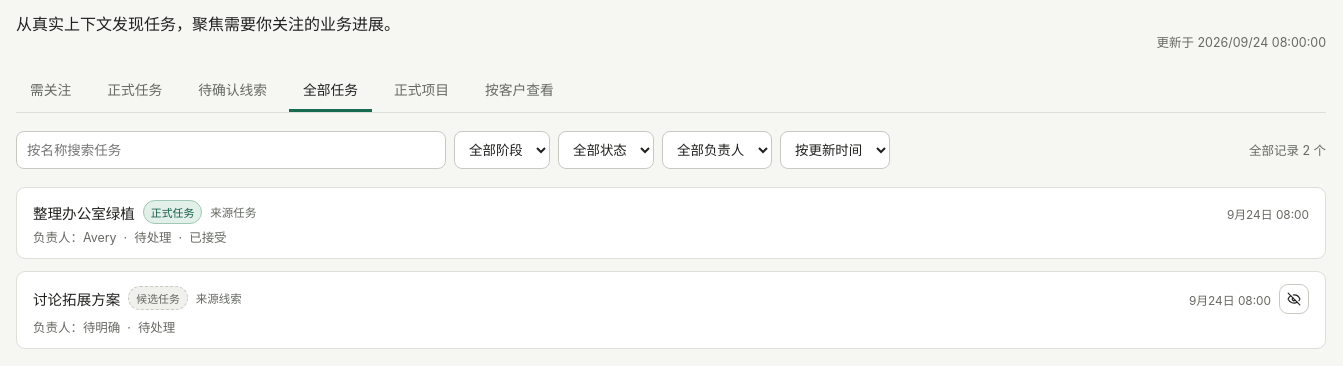
Test: TasksPage › lets Derek ignore a candidate and take it back, and offers no button on a formal Task
Expected: the link "讨论拓展方案" is shown, left=33, top=288, right=120, bottom=308
Click the button named "忽略 讨论拓展方案": (1294, 299) left=1279, top=284, right=1309, bottom=314
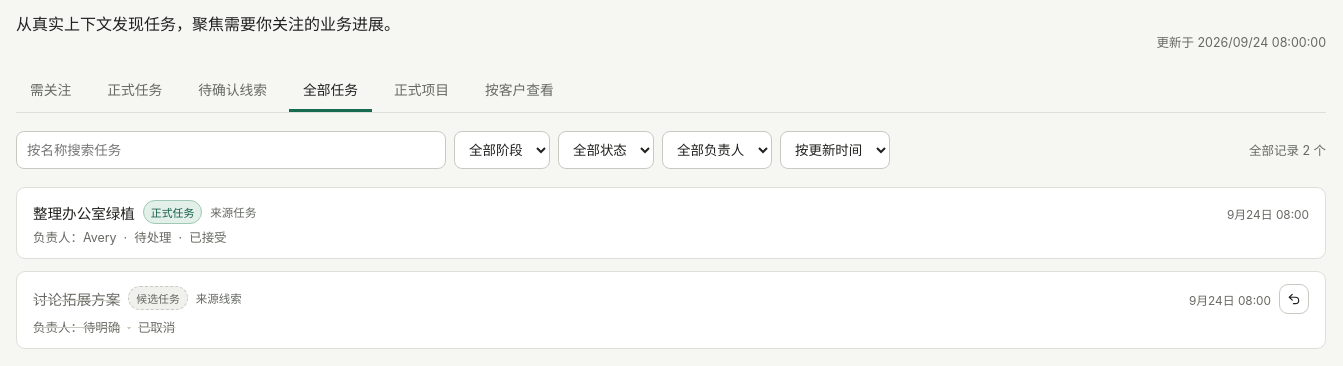
Now the text "已取消" is shown, box left=120, top=318, right=175, bottom=336
Click the button named "恢复 讨论拓展方案": (1294, 299) left=1279, top=284, right=1309, bottom=314
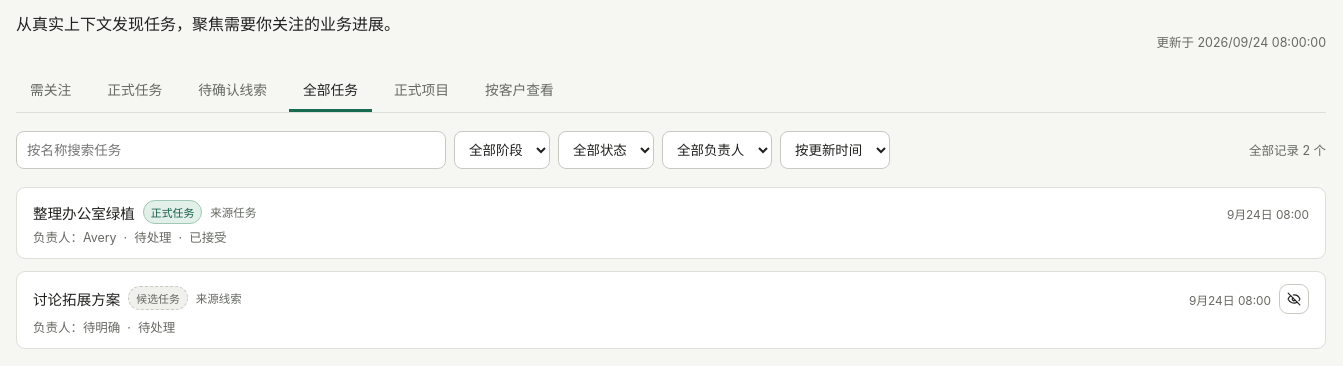
Now the button named "忽略 讨论拓展方案" is shown, box left=1279, top=284, right=1309, bottom=314
